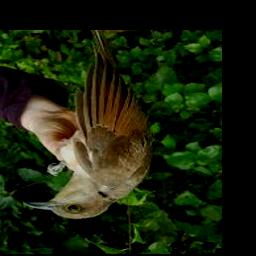Cuckoo: (23, 31, 154, 219)
